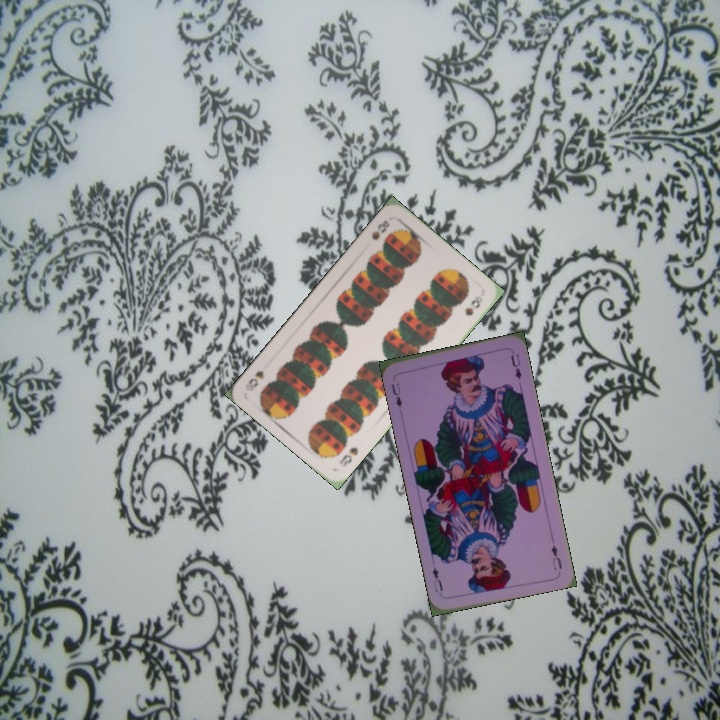EU: (547, 541, 565, 573), (387, 379, 405, 410)
S8: (335, 443, 361, 470), (367, 216, 392, 243)
